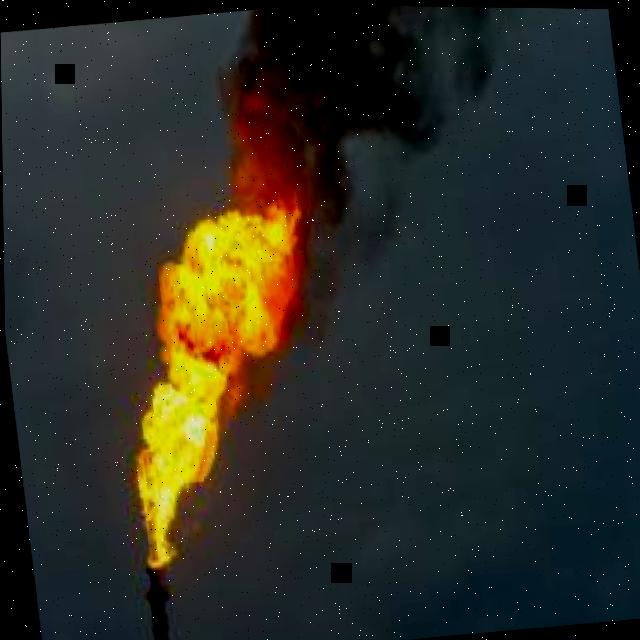fire: (134, 87, 315, 565)
smoke: (215, 4, 511, 417)
